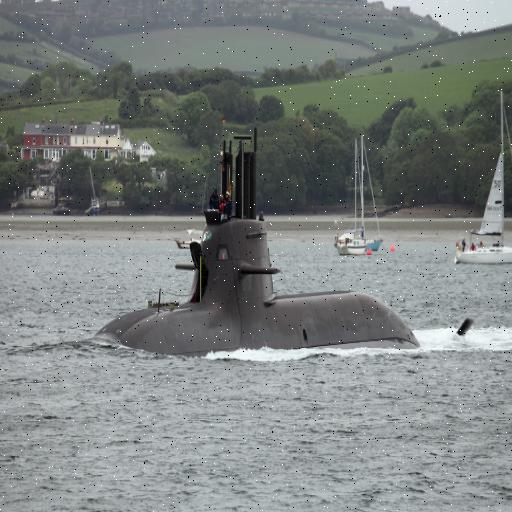submarine: (89, 115, 472, 360)
